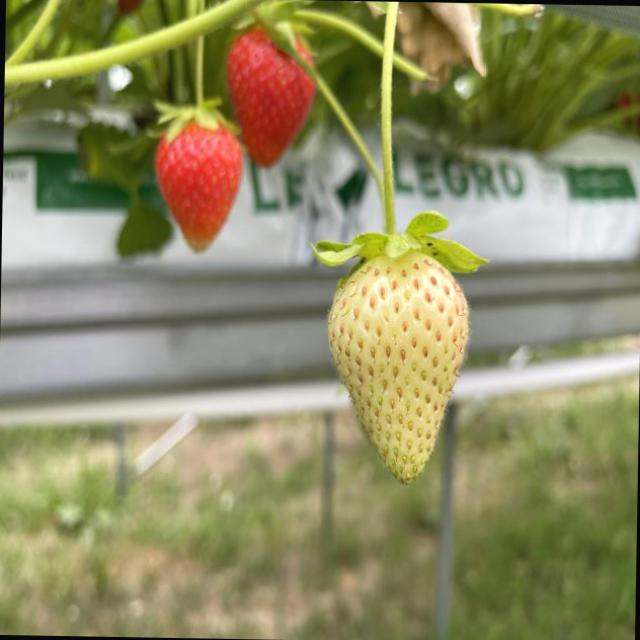stem: (316, 1, 482, 271)
strawberryNR: (327, 252, 468, 481)
strawberryR: (226, 26, 314, 162), (154, 124, 239, 250)
